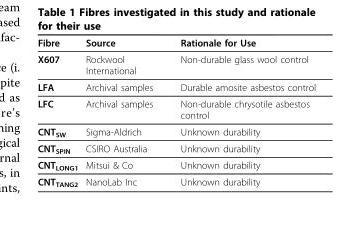table: (36, 36, 315, 187)
table column: (166, 36, 315, 187), (81, 36, 166, 187), (36, 36, 81, 187)
table column header: (36, 36, 315, 50)
table row: (36, 50, 315, 78), (36, 95, 315, 122), (36, 122, 315, 140), (36, 78, 315, 95), (36, 156, 315, 173), (36, 140, 315, 156), (36, 36, 315, 50), (36, 173, 315, 187)
